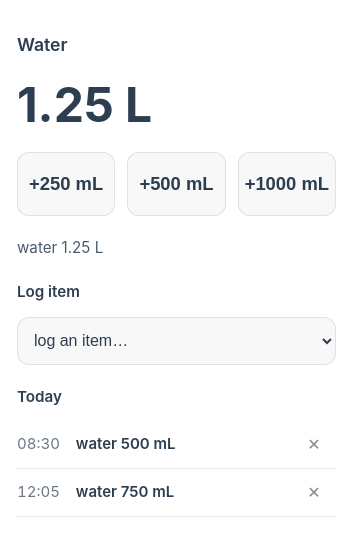
it: HomeView › surfaces a failed delete and still resyncs the day
Click the button with class "entry-delete" in the row of "08:30": (314, 444) left=292, top=422, right=336, bottom=466
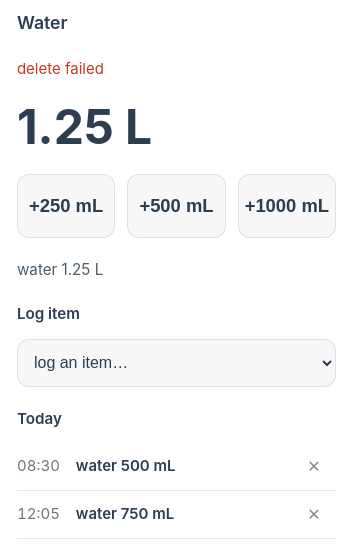
Expected: the message with class "error" reads "delete failed", left=17, top=59, right=104, bottom=78
